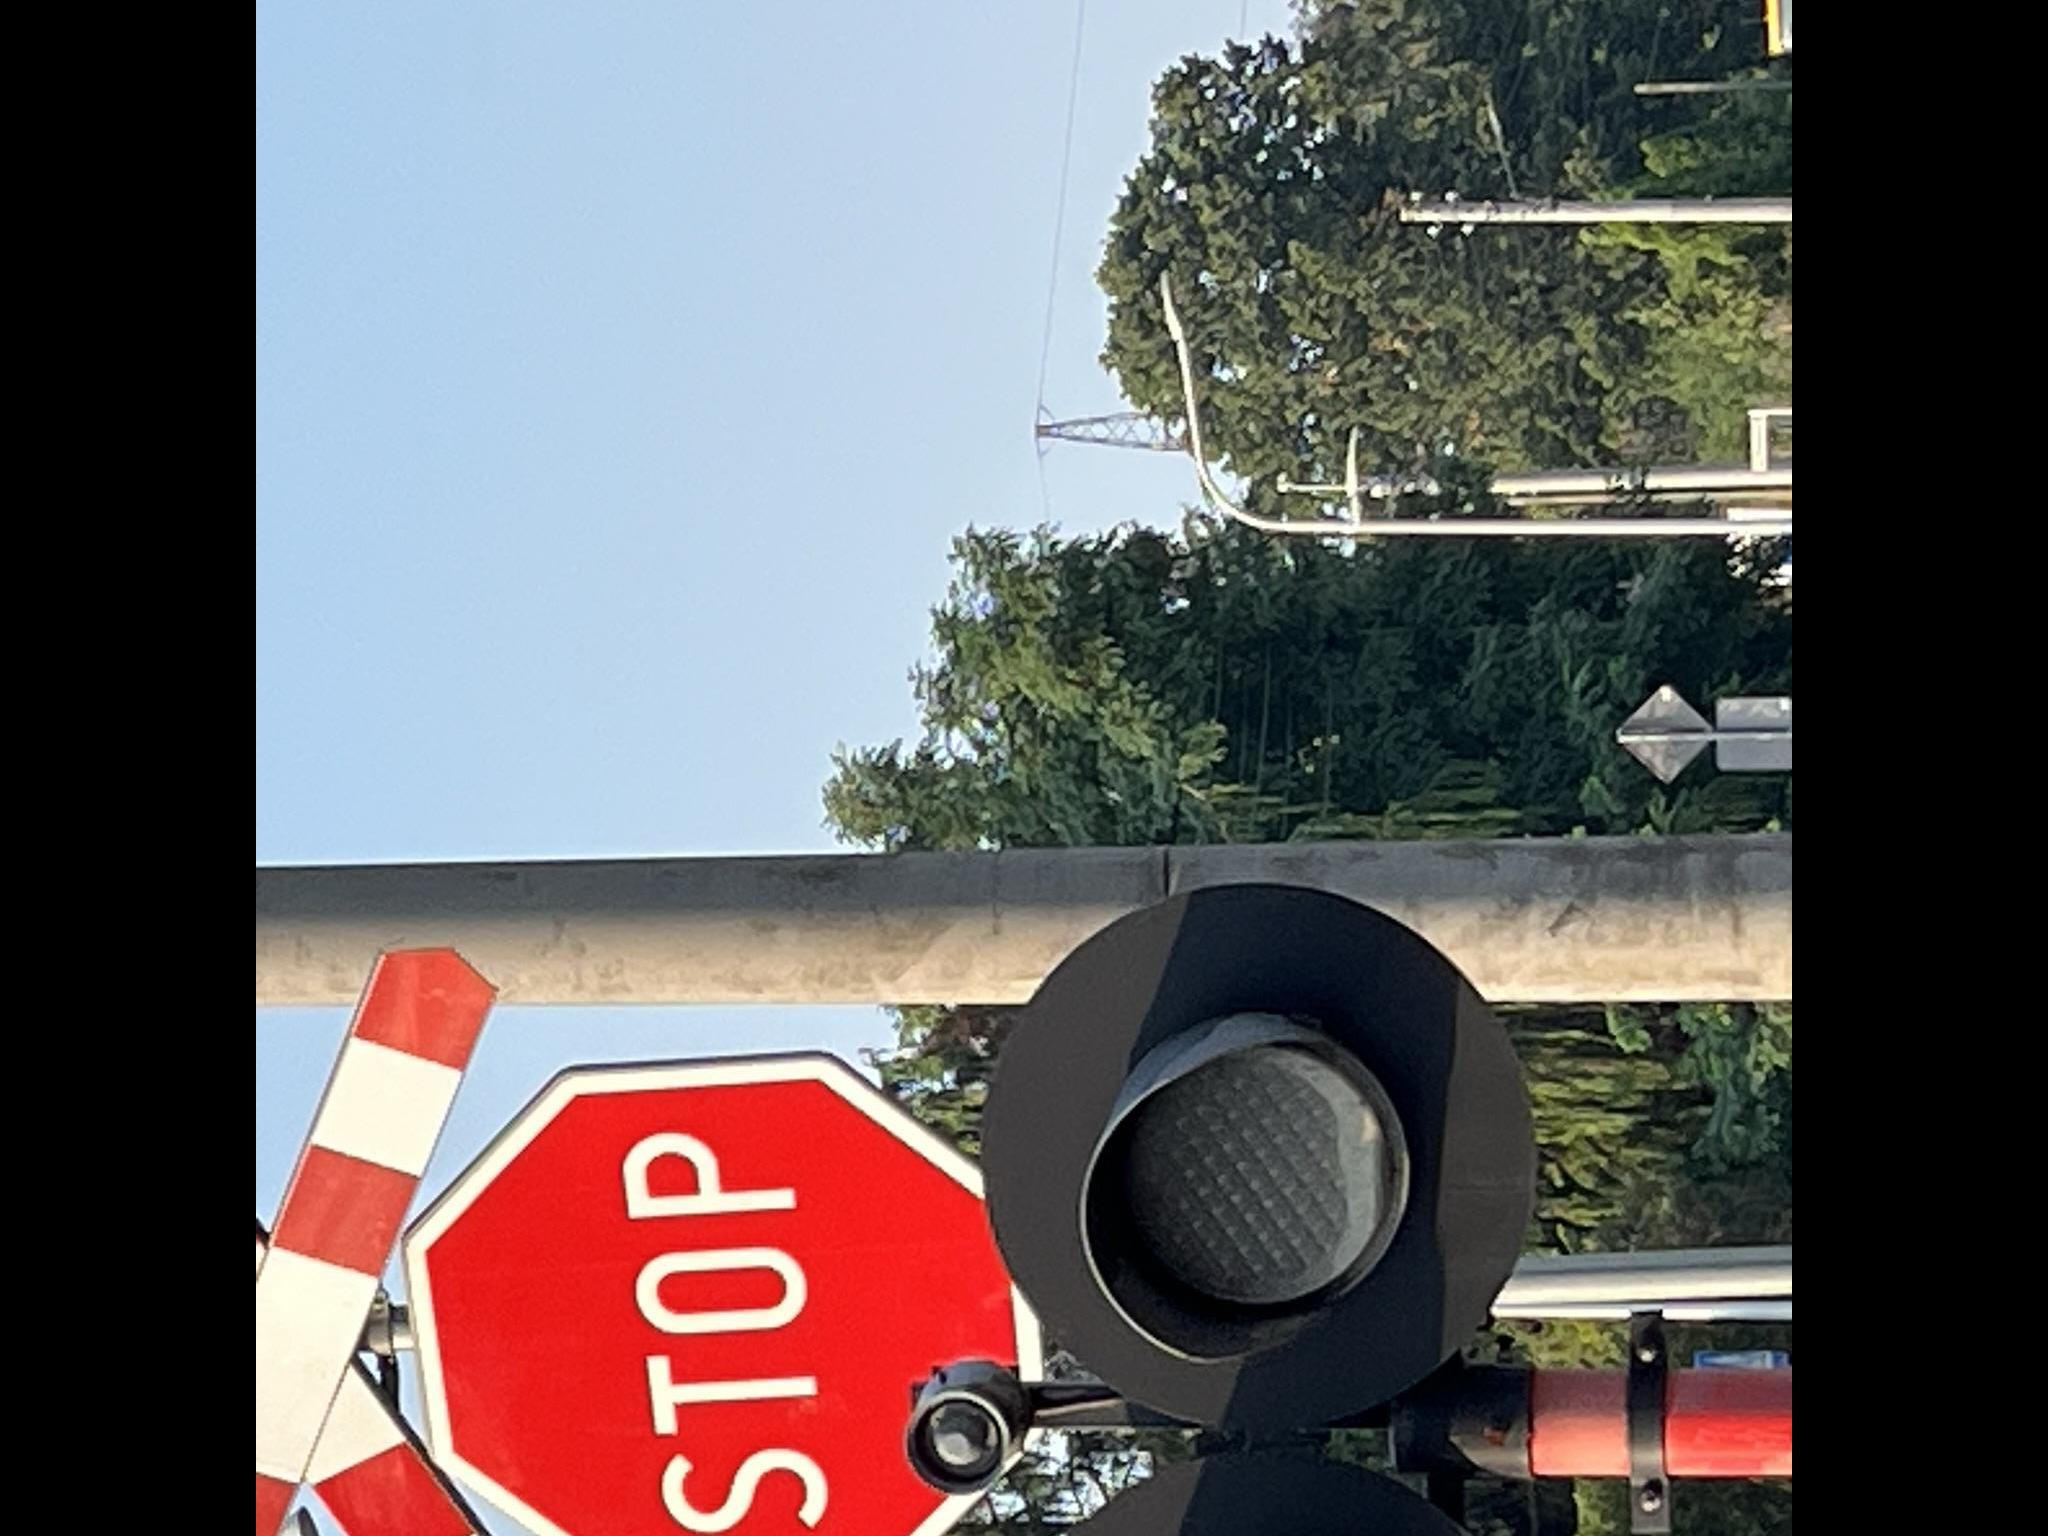prohibitory: (402, 1052, 1043, 1536)
